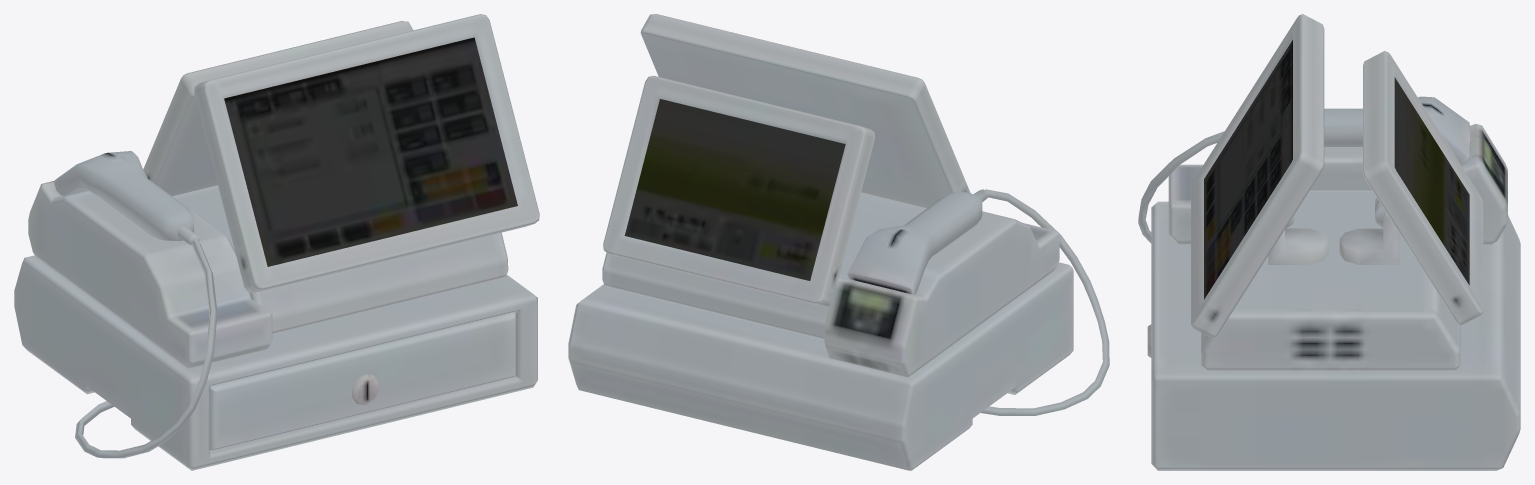
3 renders of one model, left to right at view 1: azimuth 30°, elevation 25°; view 2: azimuth 150°, elevation 25°; view 3: azimuth 270°, elevation 25°, orthographic. The views are drawn at different scales.
Bounding box in the file's own units: 9.01 × 6.36 × 6.71.
Materials: 1 (1 with a texture image).
